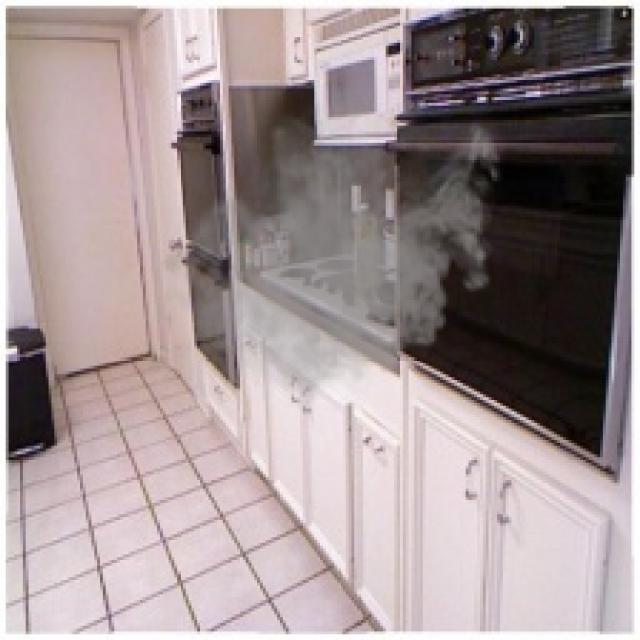Smoke: (159, 66, 512, 420)
